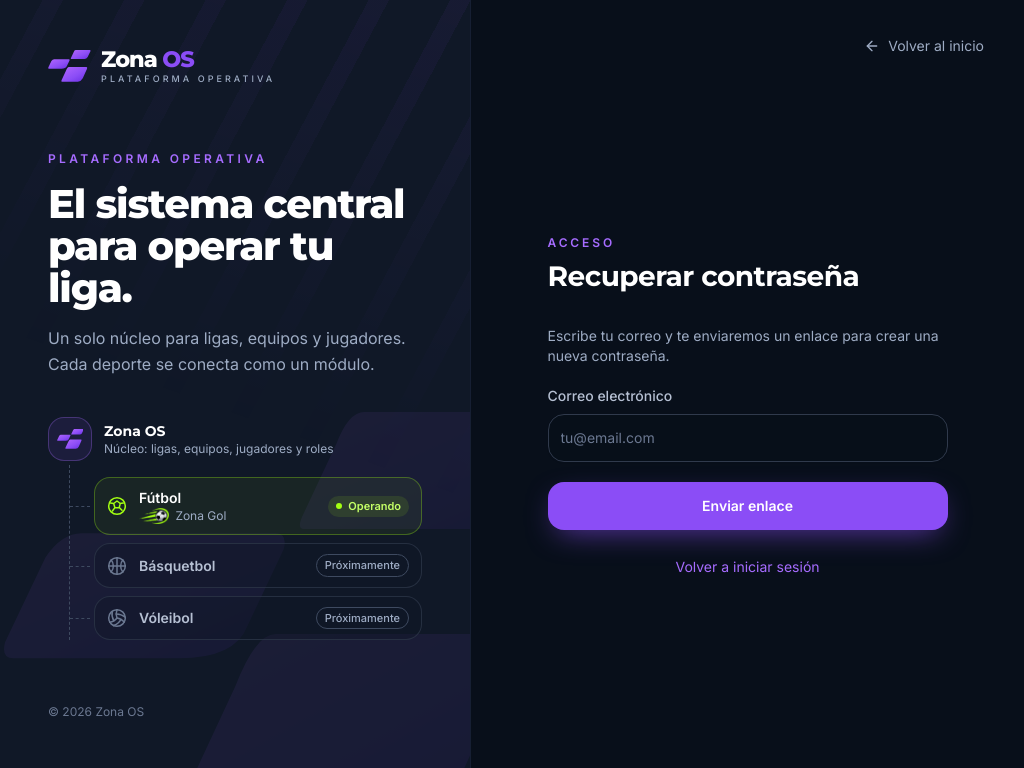
Scenario: ForgotPasswordPage › shows the rate limit message
Type "a@b.mx" into the field labelled "Correo electrónico" at (748, 438), box [548,414,948,462]
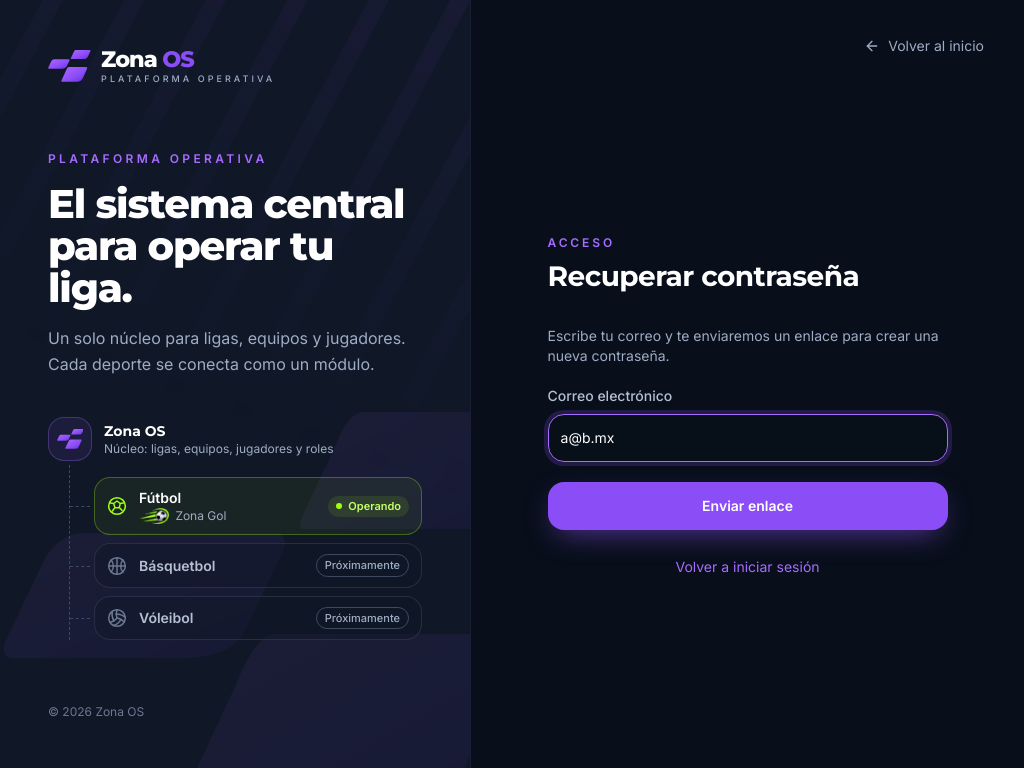
Click the button "Enviar enlace" at (748, 506), box [548,482,948,530]
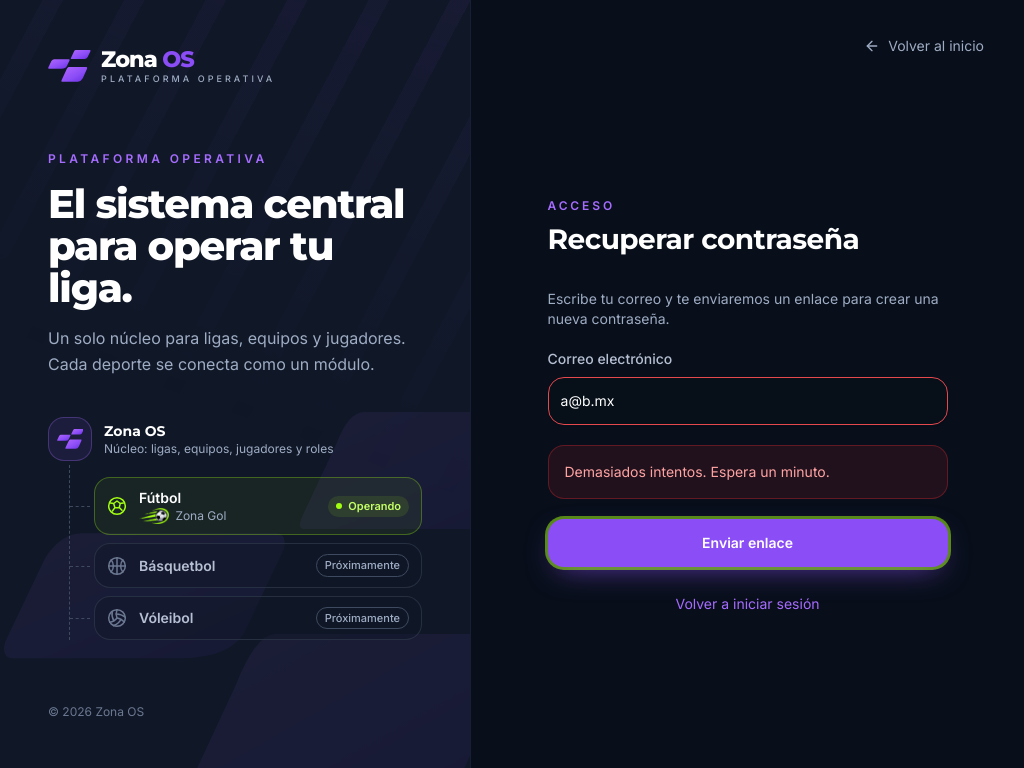
Check: the message shows "Demasiados intentos", box [564,462,830,480]
